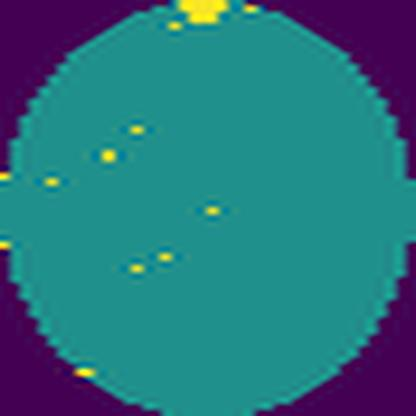Edge-Loc: (170, 0, 232, 25)
